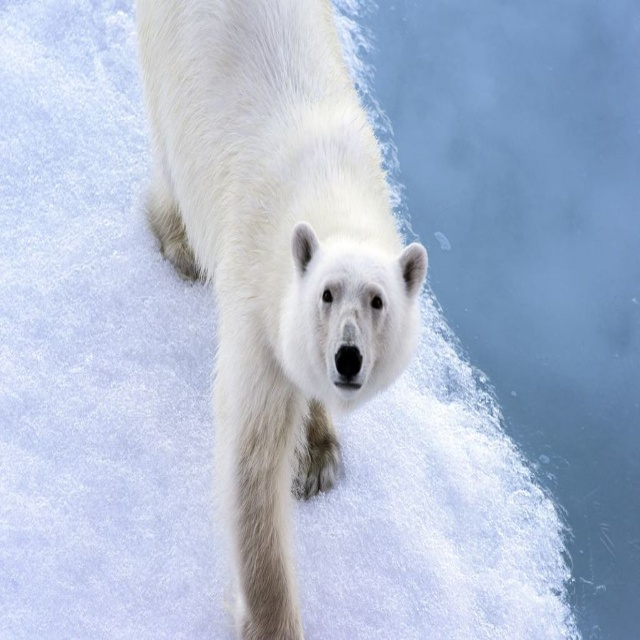Polar bear: (127, 0, 429, 639)
